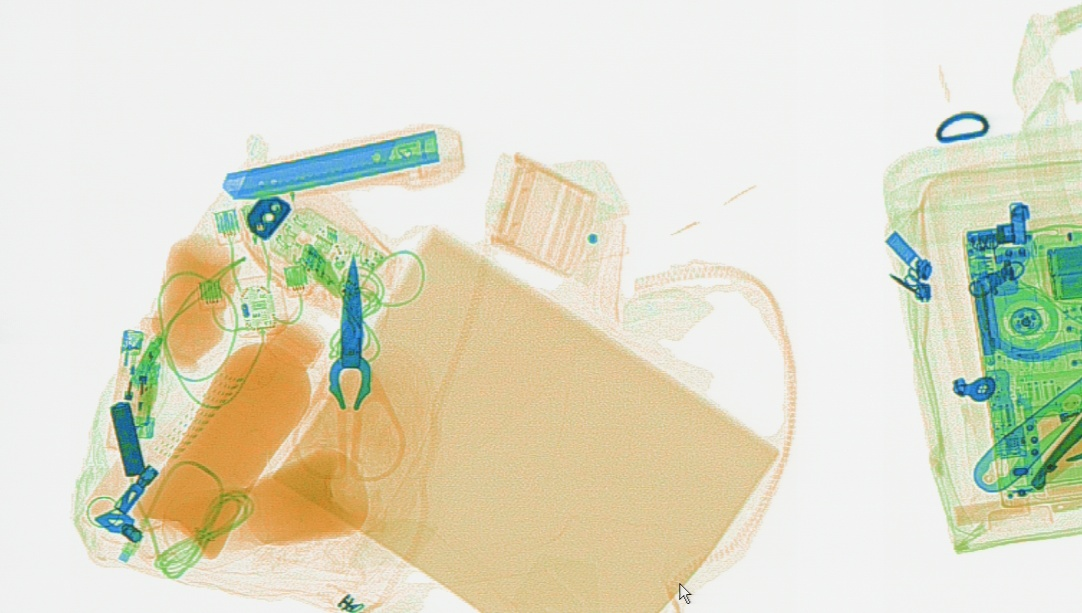knife: (219, 121, 465, 203)
lighter: (103, 326, 146, 453), (130, 315, 163, 438)
scissors: (291, 252, 406, 480)
